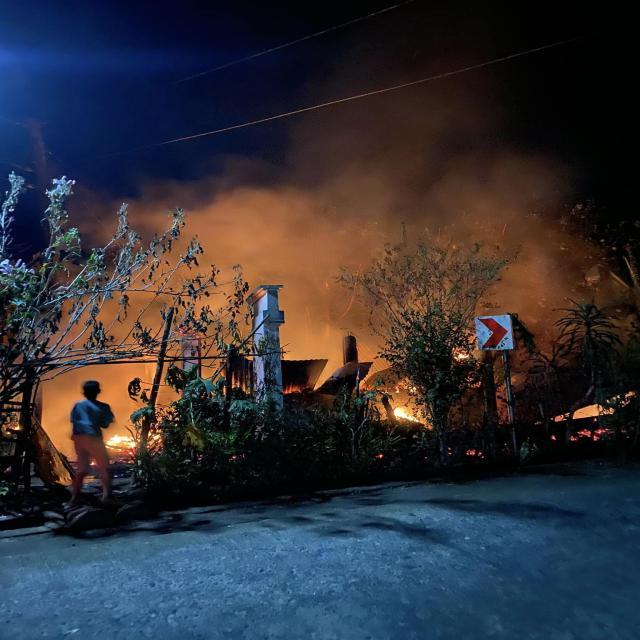Fire: (107, 429, 138, 454), (392, 406, 420, 424), (452, 352, 472, 362)
